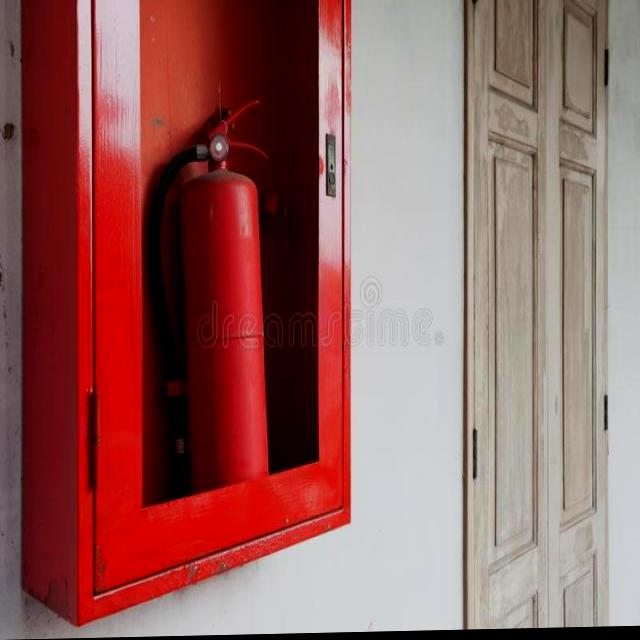FireExtinguisher: (147, 94, 276, 557)
